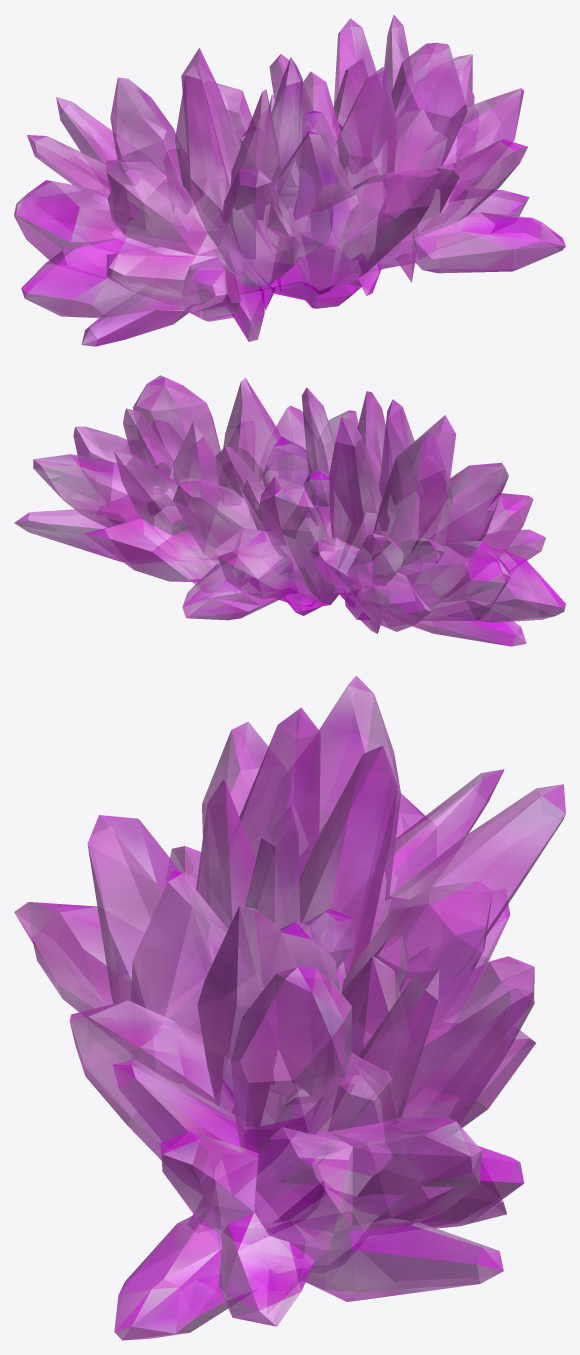
Rendered from crystal_orange.obj.
3 renders of one model, top to bottom at view 1: azimuth 30°, elevation 25°; view 2: azimuth 150°, elevation 25°; view 3: azimuth 270°, elevation 25°, orthographic. The views are drawn at different scales.
Parts seen in each view (by area): view 1: Mesh1 skpB18B1 Model; view 2: Mesh1 skpB18B1 Model; view 3: Mesh1 skpB18B1 Model.
Boxes of the visible parts, box(x1,y1,x2,y2) form: Mesh1 skpB18B1 Model: box(14, 14, 565, 346); Mesh1 skpB18B1 Model: box(14, 375, 565, 646); Mesh1 skpB18B1 Model: box(14, 675, 565, 1340).
Bounding box in the file's own units: 25.06 × 12.61 × 13.84.
